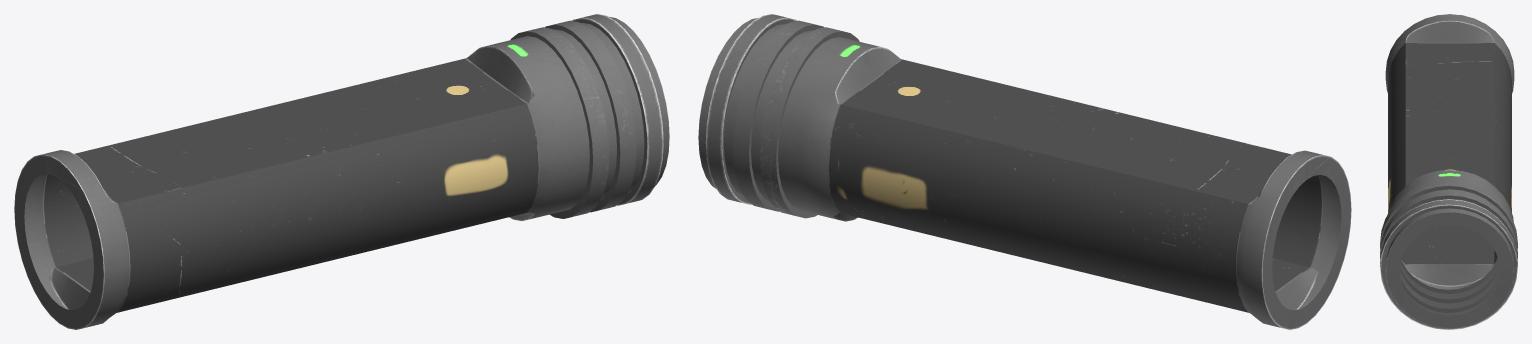
The model's file is grip_13_c_b.glb.
The picture shows the model from 3 angles, left to right: view 1: azimuth 30°, elevation 25°; view 2: azimuth 150°, elevation 25°; view 3: azimuth 270°, elevation 25°; orthographic projection. The views are drawn at different scales.
Parts seen in each view (by area): view 1: grip_13_c_b_lod0; view 2: grip_13_c_b_lod0; view 3: grip_13_c_b_lod0.
Part boxes in pixels (bbox=[...]): grip_13_c_b_lod0: bbox=[14, 14, 669, 329]; grip_13_c_b_lod0: bbox=[698, 14, 1351, 329]; grip_13_c_b_lod0: bbox=[1380, 14, 1517, 329].
Size of what is drawn, in the model's own units: 0.1052 by 0.031 by 0.0309.
1 material, 1 textured.
